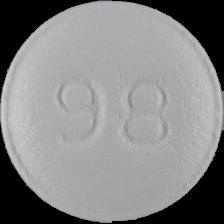0093-5538: (0, 0, 224, 224)
